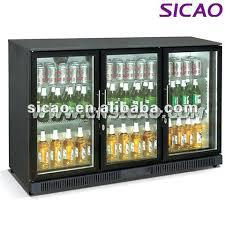beer: (36, 60, 92, 166), (105, 59, 156, 159), (168, 56, 204, 148)
